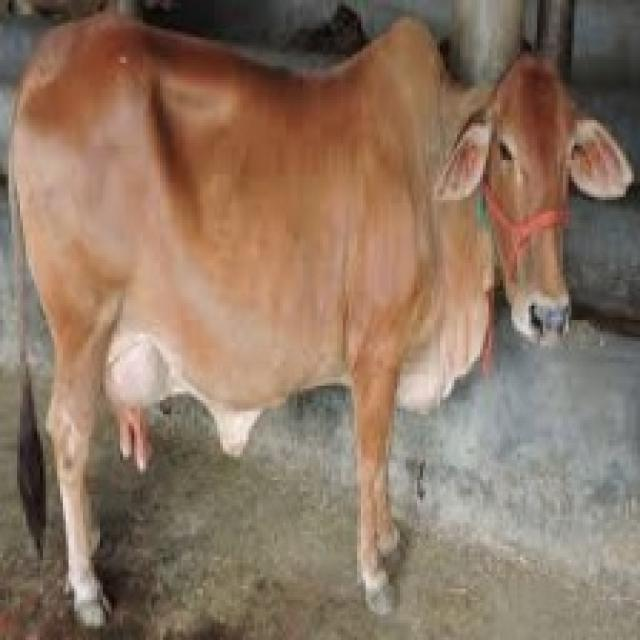bear: (33, 21, 567, 604)
